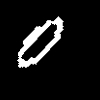chain: (17, 17, 62, 66)
